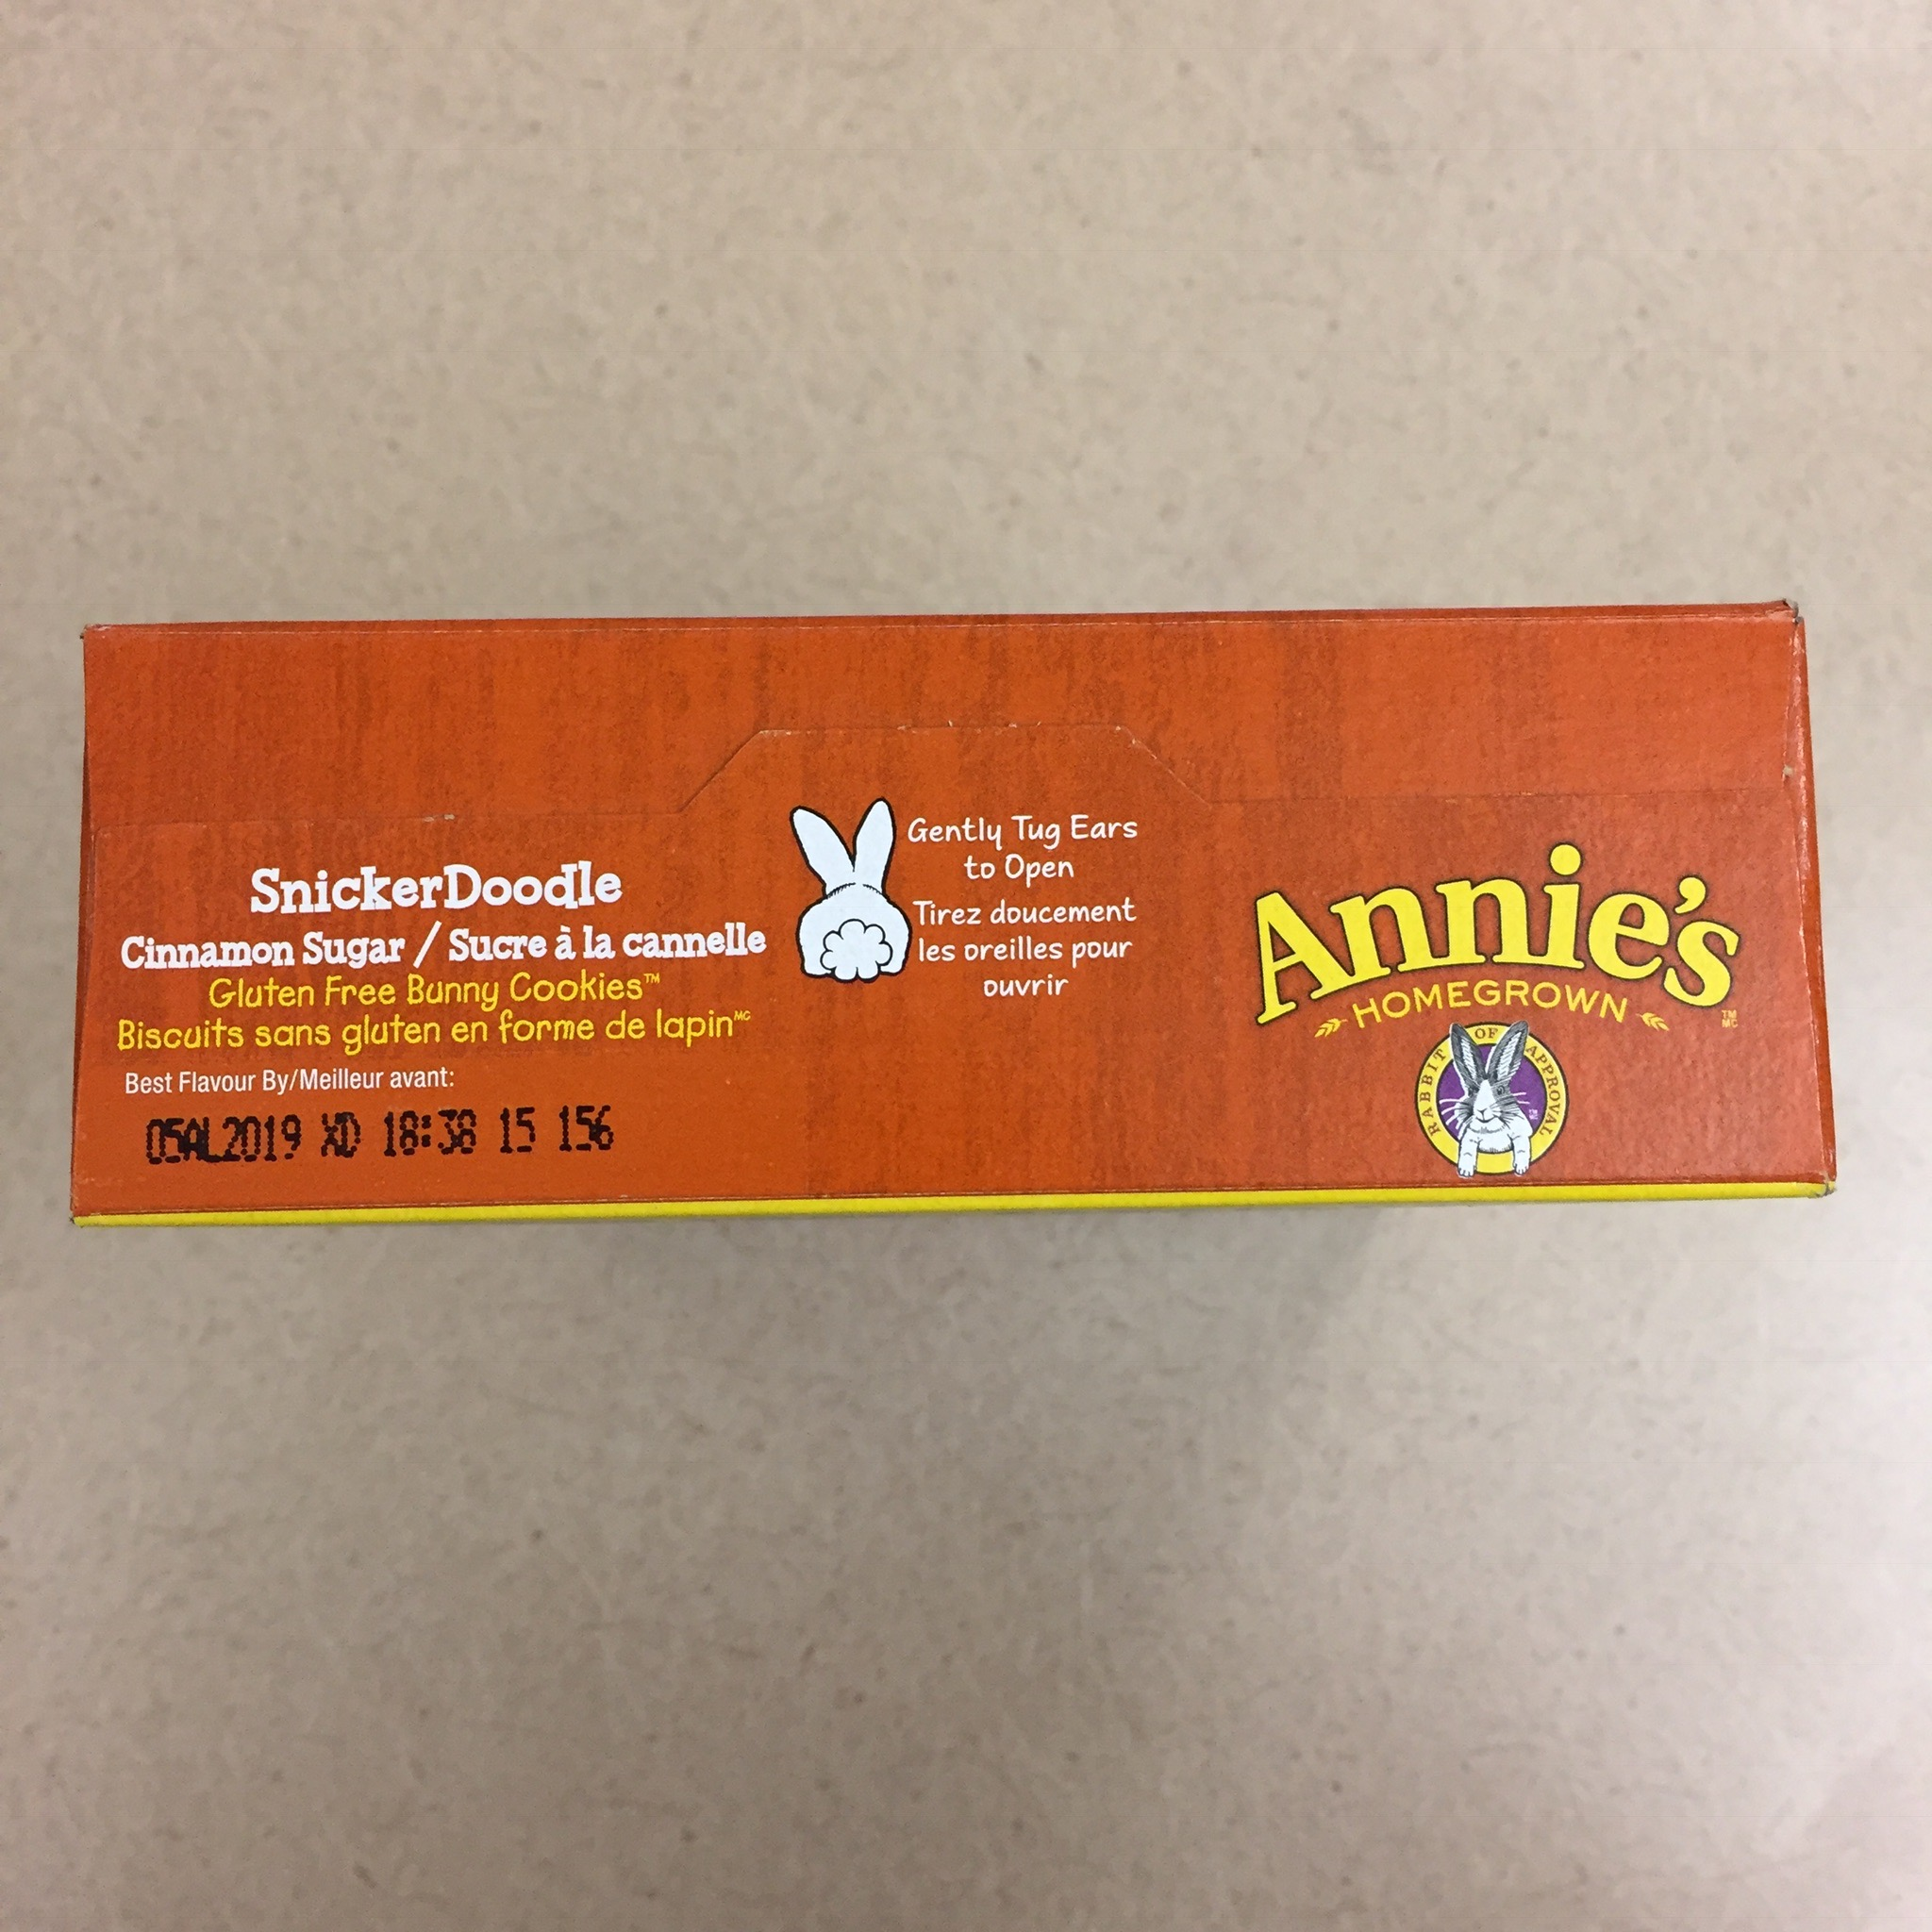annies_snickerdoodle_cinnamon_sugar: (65, 593, 1844, 1233)
